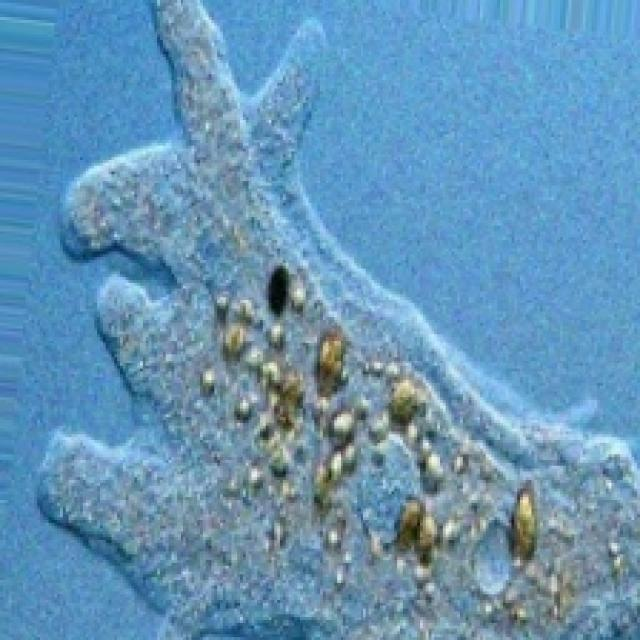Amoeba: (32, 0, 637, 637)
